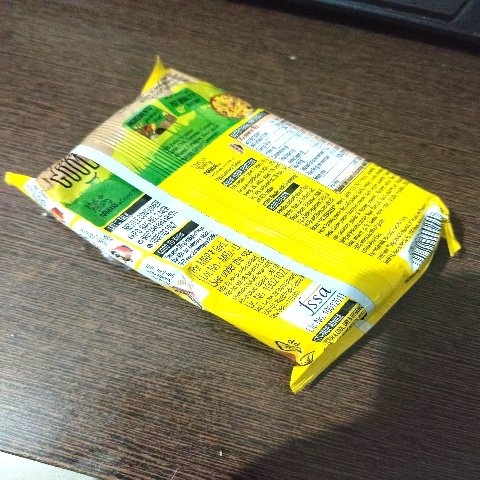maggi: (6, 51, 455, 368)
